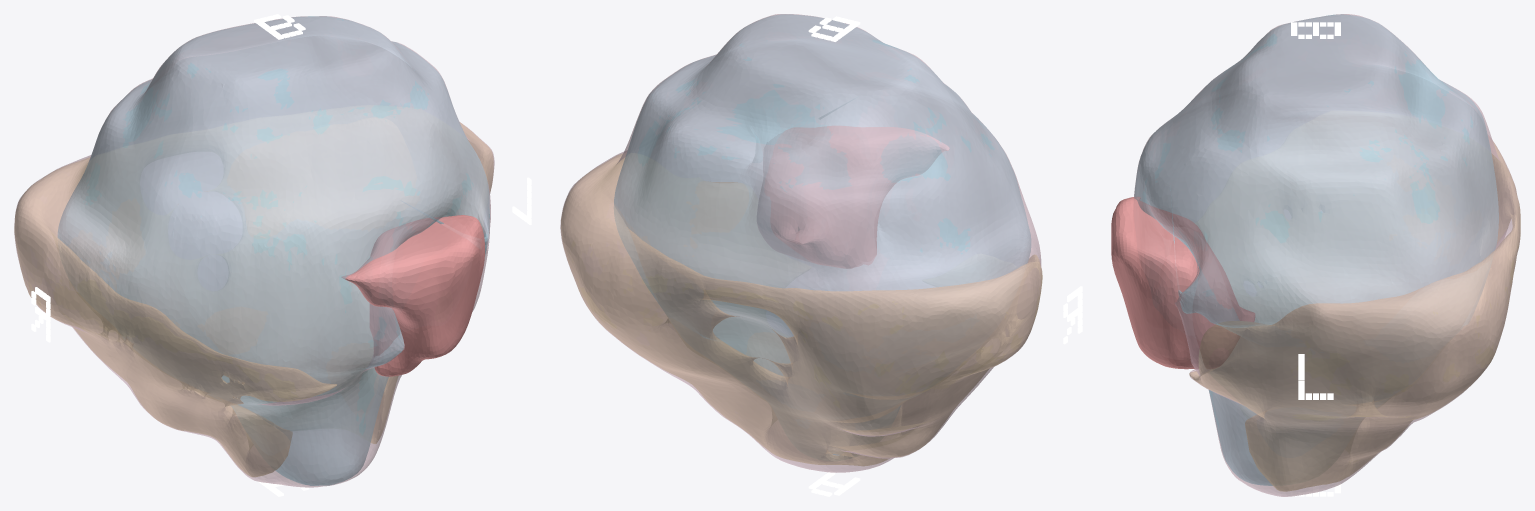
3 views of the same model, side by side, from view 1: azimuth 30°, elevation 25°; view 2: azimuth 150°, elevation 25°; view 3: azimuth 270°, elevation 25° (orthographic).
Visible parts, largest first — view 1: prostate_gland, transition_zone, peripheral_zone, lesion_01, pv_ar_marker_B, pv_ar_marker_R; view 2: prostate_gland, transition_zone, peripheral_zone, lesion_01, pv_ar_marker_B, pv_ar_marker_R; view 3: prostate_gland, transition_zone, peripheral_zone, lesion_01, pv_ar_marker_B, pv_ar_marker_L.
Part boxes in pixels (box(x1,y1,x2,y2)): prostate_gland: box(14, 16, 494, 487); transition_zone: box(58, 16, 489, 485); peripheral_zone: box(14, 122, 493, 476); lesion_01: box(342, 215, 484, 376); pv_ar_marker_B: box(254, 14, 305, 39); pv_ar_marker_R: box(31, 287, 50, 342); prostate_gland: box(560, 14, 1041, 472); transition_zone: box(614, 14, 1030, 455); peripheral_zone: box(561, 153, 1042, 465); lesion_01: box(757, 126, 949, 268); pv_ar_marker_B: box(808, 16, 860, 41); pv_ar_marker_R: box(1063, 286, 1082, 344); prostate_gland: box(1134, 14, 1520, 496); transition_zone: box(1134, 14, 1498, 485); peripheral_zone: box(1189, 142, 1520, 491); lesion_01: box(1111, 197, 1254, 369); pv_ar_marker_B: box(1291, 22, 1340, 38); pv_ar_marker_L: box(1298, 354, 1333, 399).
Size of the model in its own units: 0.0622 by 0.0565 by 0.0457.
